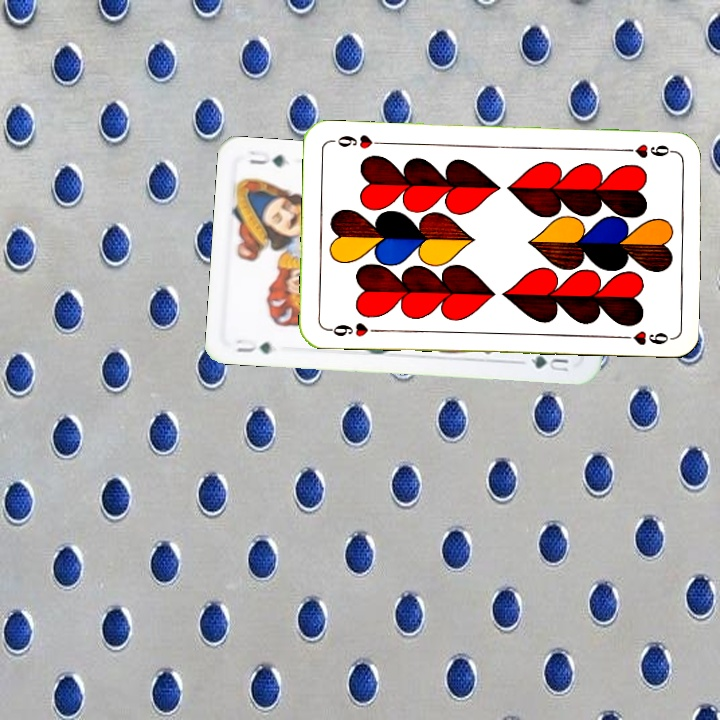GU: (231, 334, 275, 356)
H9: (323, 319, 382, 339), (618, 140, 677, 160)
